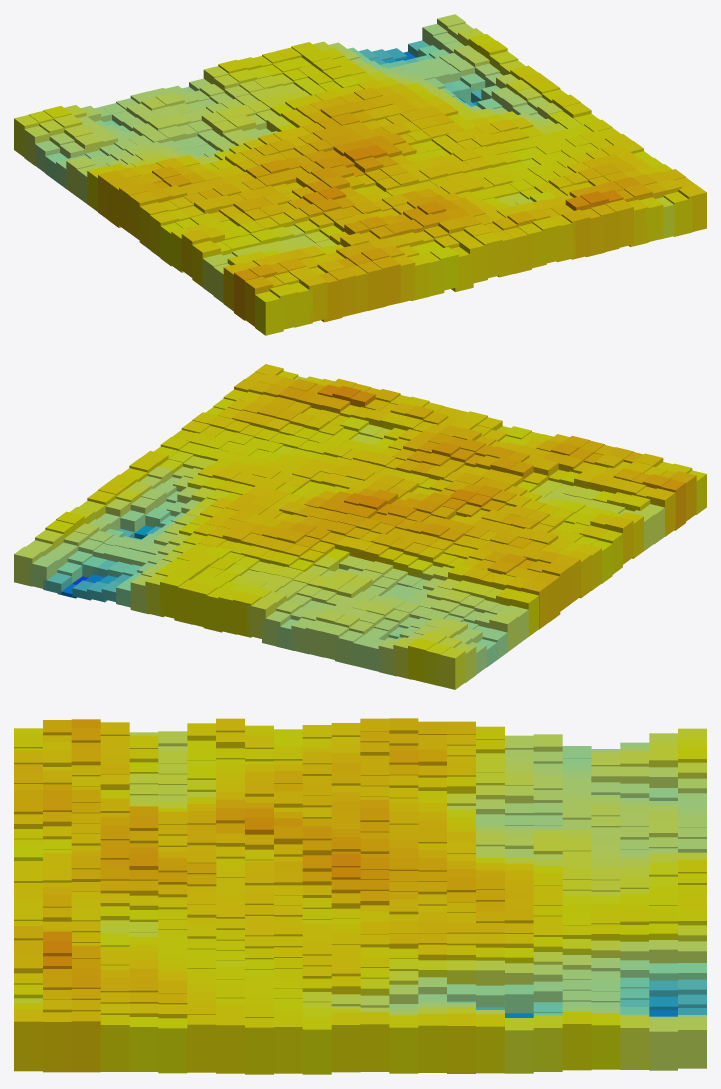
Rendered from population.glb.
3 views of the same model, one above another, from view 1: azimuth 30°, elevation 25°; view 2: azimuth 150°, elevation 25°; view 3: azimuth 270°, elevation 25° (orthographic). The views are drawn at different scales.
Visible parts, largest first — view 1: population; view 2: population; view 3: population.
Boxes of the visible parts, bbox=[...] form: population: bbox=[14, 14, 706, 335]; population: bbox=[14, 364, 706, 689]; population: bbox=[14, 718, 706, 1074].
Size of the model in its own units: 2423 by 249 by 2393.
